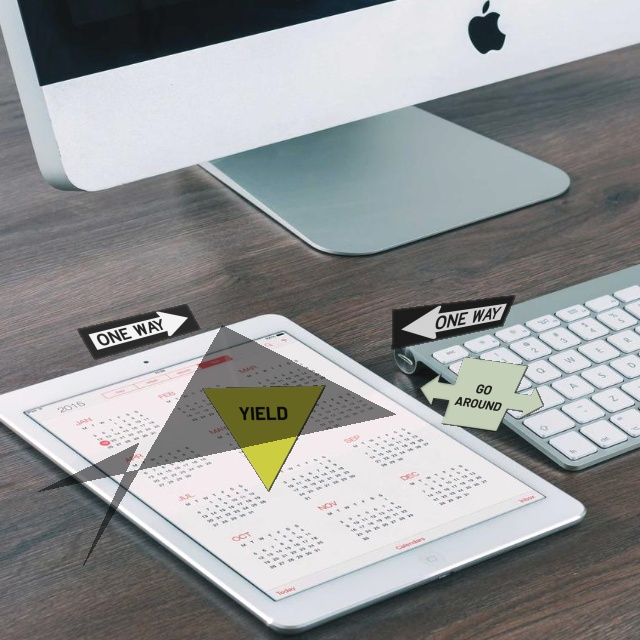GO_AROUND: (419, 356, 544, 432)
ONE_WAY_ left: (391, 294, 516, 350)
ONE_WAY_ right: (76, 303, 201, 360)
YIELD: (201, 385, 326, 492)
